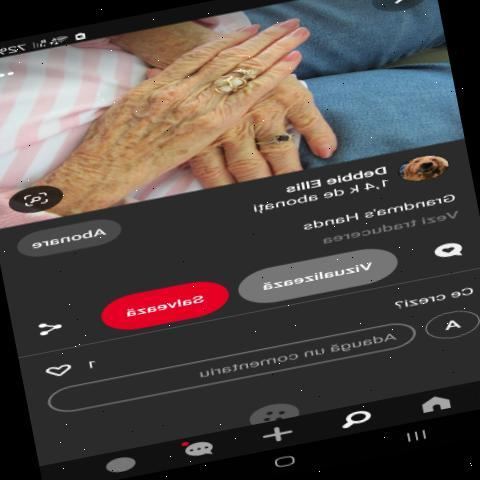Hands: (46, 10, 330, 199), (172, 58, 330, 193)
